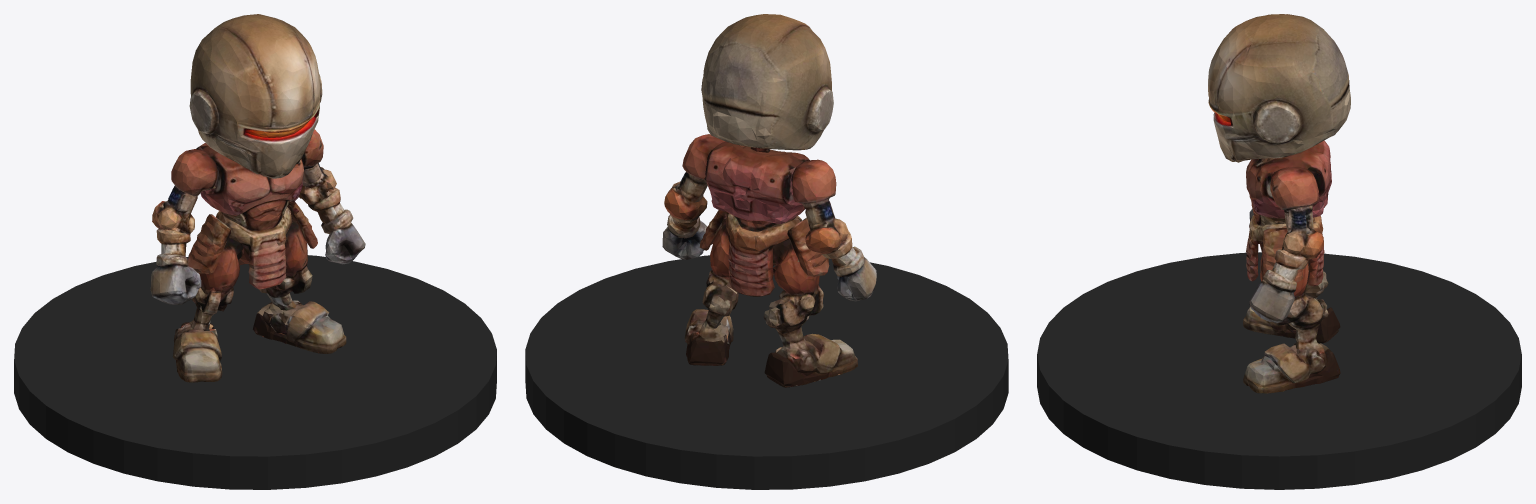
File: hc-sicarian-infiltrator-warrior.glb
3 renders of one model, left to right at view 1: azimuth 30°, elevation 25°; view 2: azimuth 150°, elevation 25°; view 3: azimuth 270°, elevation 25°, orthographic.
Parts seen in each view (by area): view 1: base, figure; view 2: base, figure; view 3: base, figure.
Boxes of the visible parts, left/top/right/bottom form: base: left=14, top=255, right=496, bottom=489; figure: left=150, top=14, right=365, bottom=382; base: left=525, top=255, right=1008, bottom=489; figure: left=662, top=14, right=876, bottom=387; base: left=1037, top=252, right=1521, bottom=489; figure: left=1208, top=14, right=1350, bottom=393.
Bounding box in the file's own units: 1.57 × 1.32 × 1.57.
2 materials, 1 textured.
